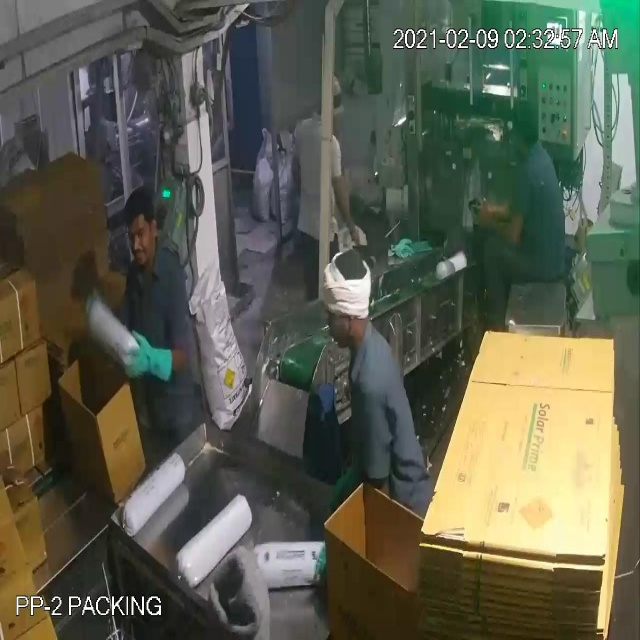Guantes: (110, 320, 177, 394)
Sin_guantes: (466, 191, 526, 251)
